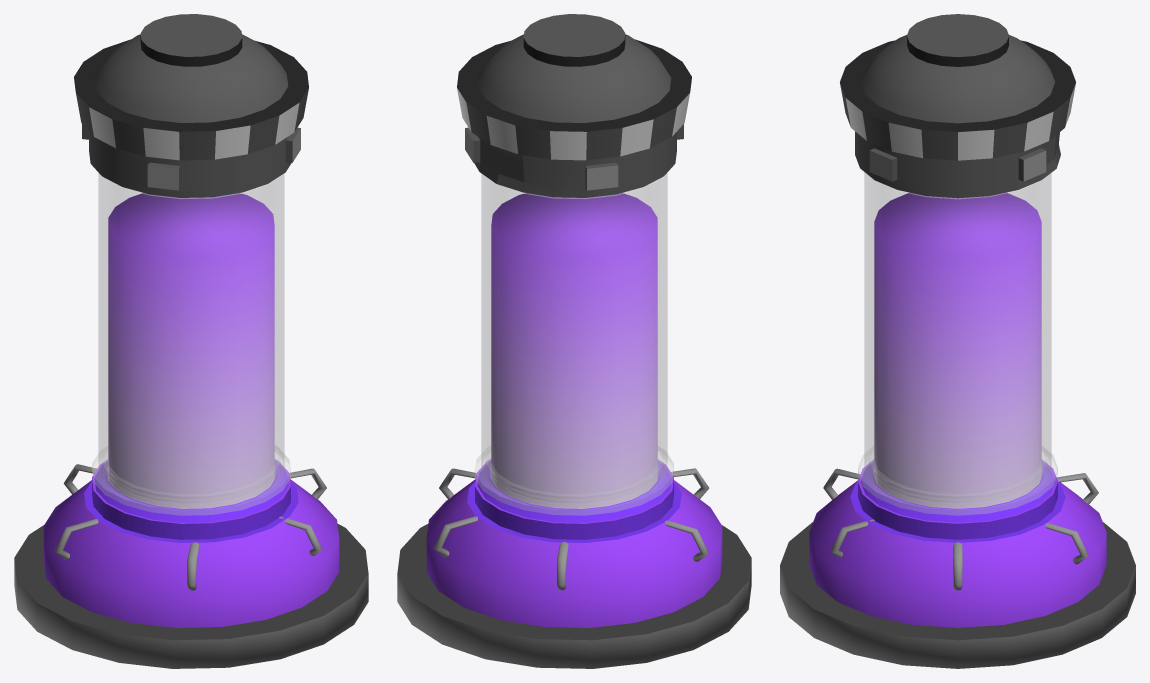
The picture shows the model from 3 angles, left to right: view 1: azimuth 30°, elevation 25°; view 2: azimuth 150°, elevation 25°; view 3: azimuth 270°, elevation 25°; orthographic projection.
Parts seen in each view (by area): view 1: MDL_Creature_Tube, MDL_Transparent_Tube.002; view 2: MDL_Creature_Tube, MDL_Transparent_Tube.002; view 3: MDL_Creature_Tube, MDL_Transparent_Tube.002.
Part boxes in pixels (x1,y1,x2,y2): MDL_Creature_Tube: (14, 14, 368, 668); MDL_Transparent_Tube.002: (91, 165, 290, 515); MDL_Creature_Tube: (397, 14, 751, 668); MDL_Transparent_Tube.002: (475, 165, 674, 515); MDL_Creature_Tube: (780, 14, 1135, 668); MDL_Transparent_Tube.002: (858, 169, 1057, 515).
Bounding box in the file's own units: 292 × 506 × 292.
